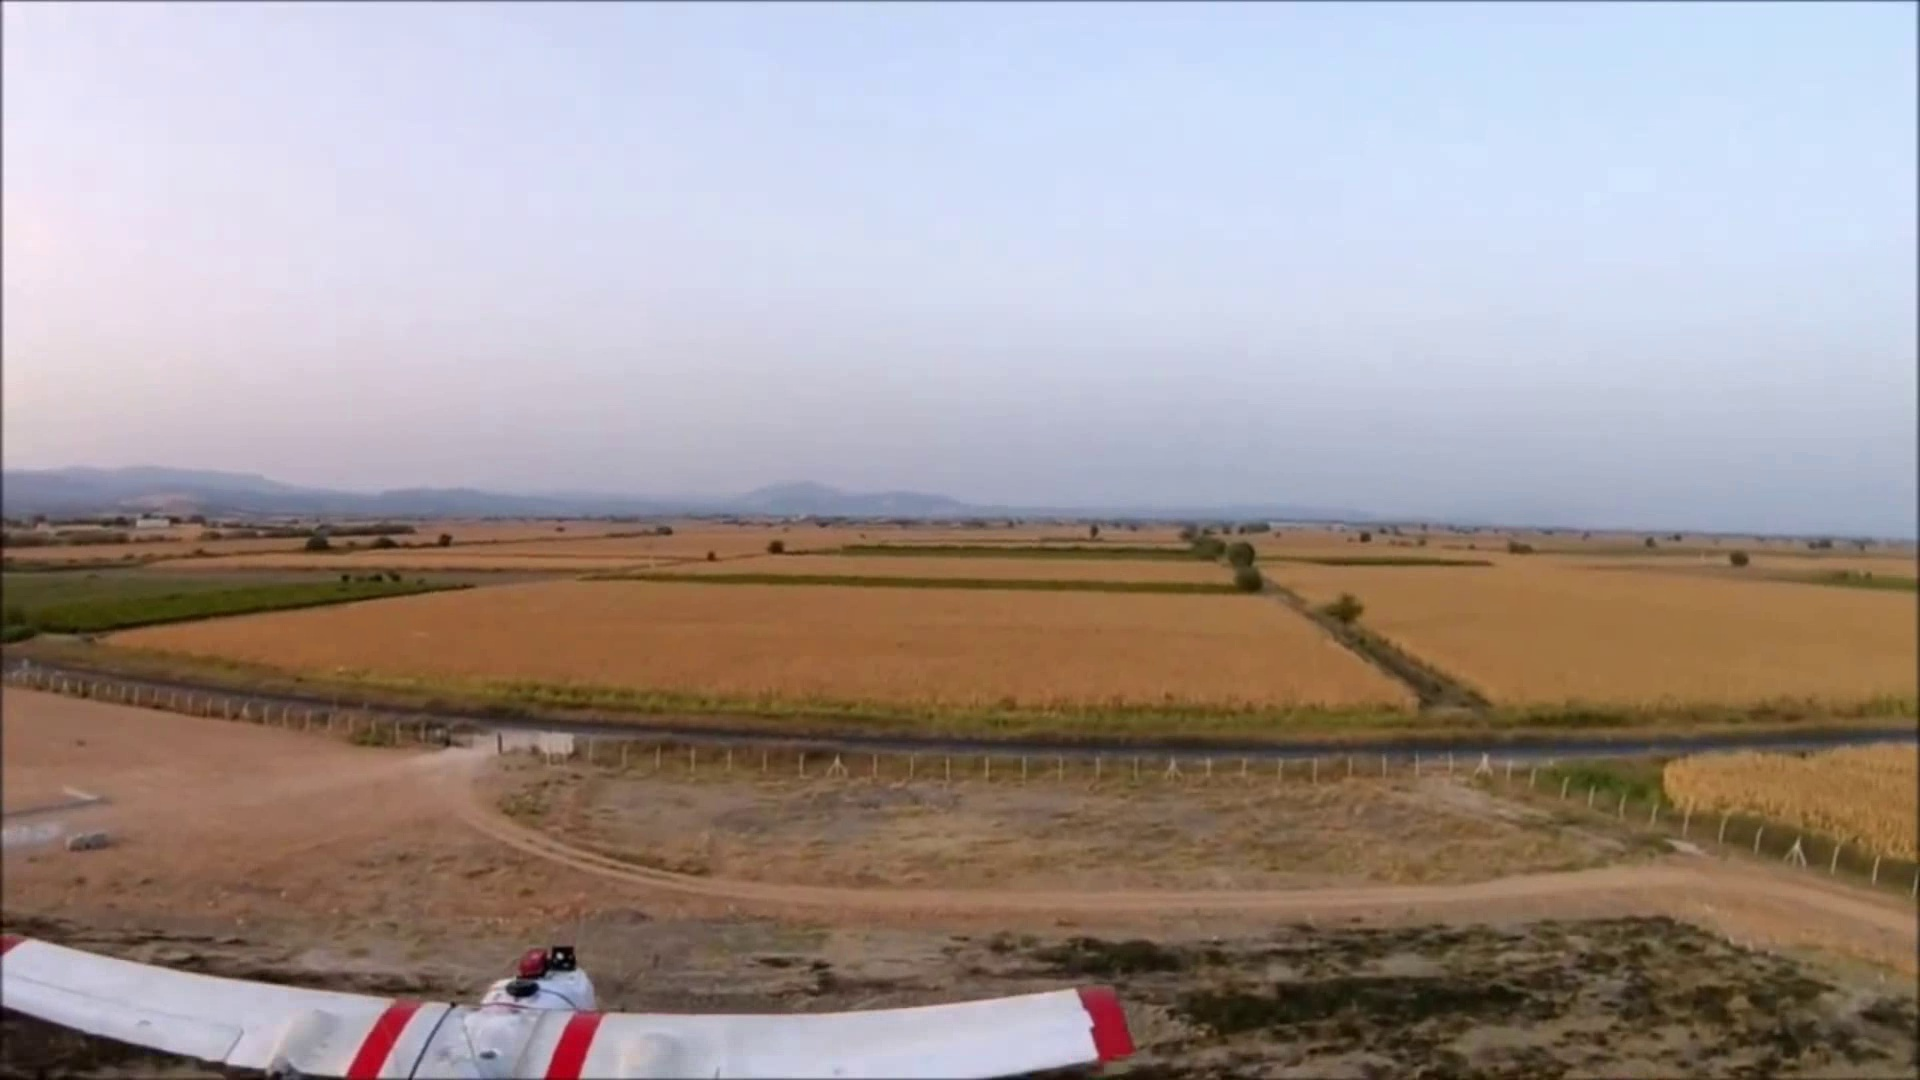airplane: (1, 938, 1139, 1071)
